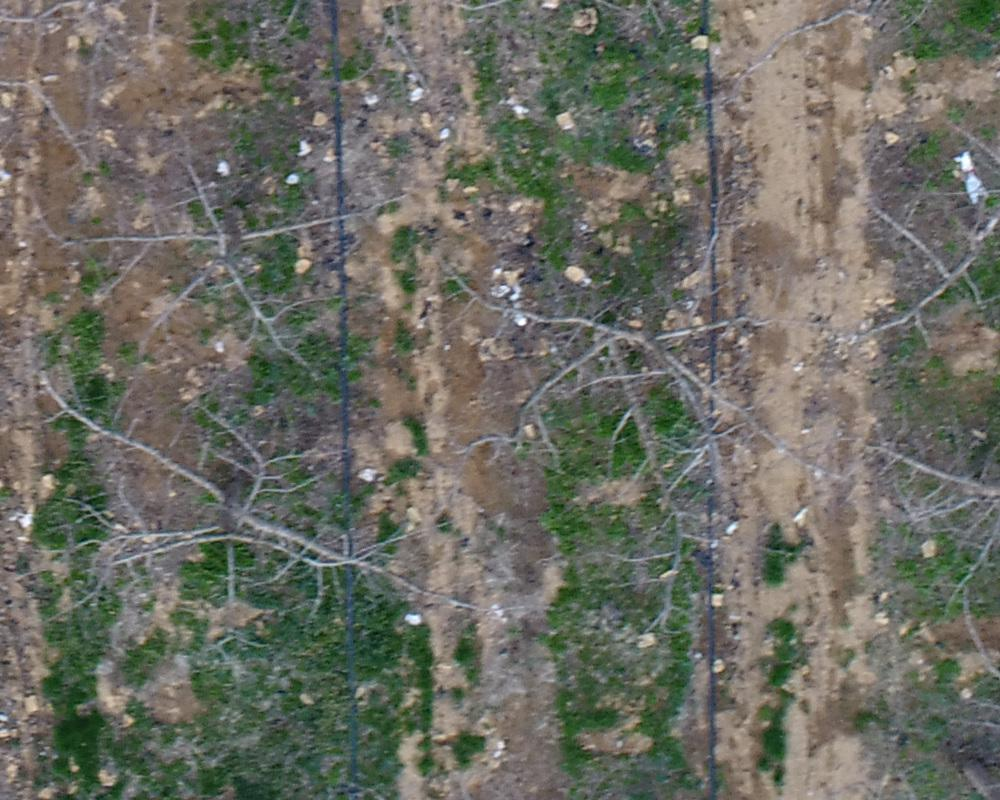apple: (427, 207, 840, 631), (16, 368, 500, 646), (29, 156, 417, 385), (807, 118, 990, 368), (836, 410, 990, 674)
